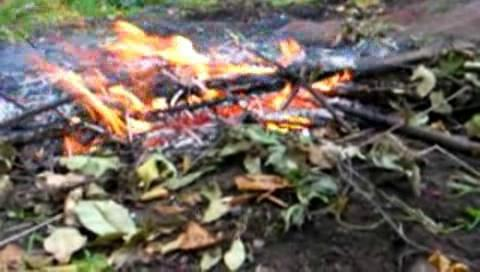fire: (71, 36, 320, 128)
